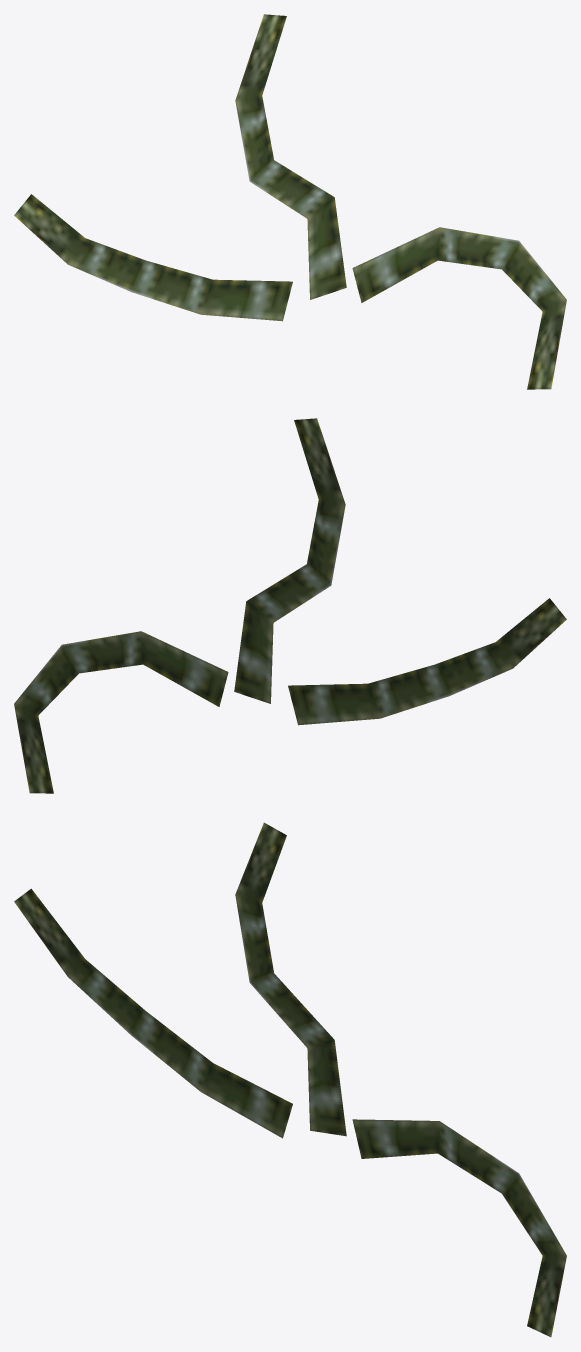
File: special_g_medusa_snakesb_idle.glb
3 views of the same model, one above another, from view 1: azimuth 30°, elevation 25°; view 2: azimuth 150°, elevation 25°; view 3: azimuth 330°, elevation 25° (orthographic).
Visible parts, largest first — view 1: MeshRoot; view 2: MeshRoot; view 3: MeshRoot.
Boxes of the visible parts, x1,y1,x2,y2 form: MeshRoot: (14,14,566,389); MeshRoot: (14,418,566,793); MeshRoot: (14,822,566,1336).
Bounding box in the file's own units: 1.24 × 0.9551 × 1.93e-07.
1 material, 1 textured.
